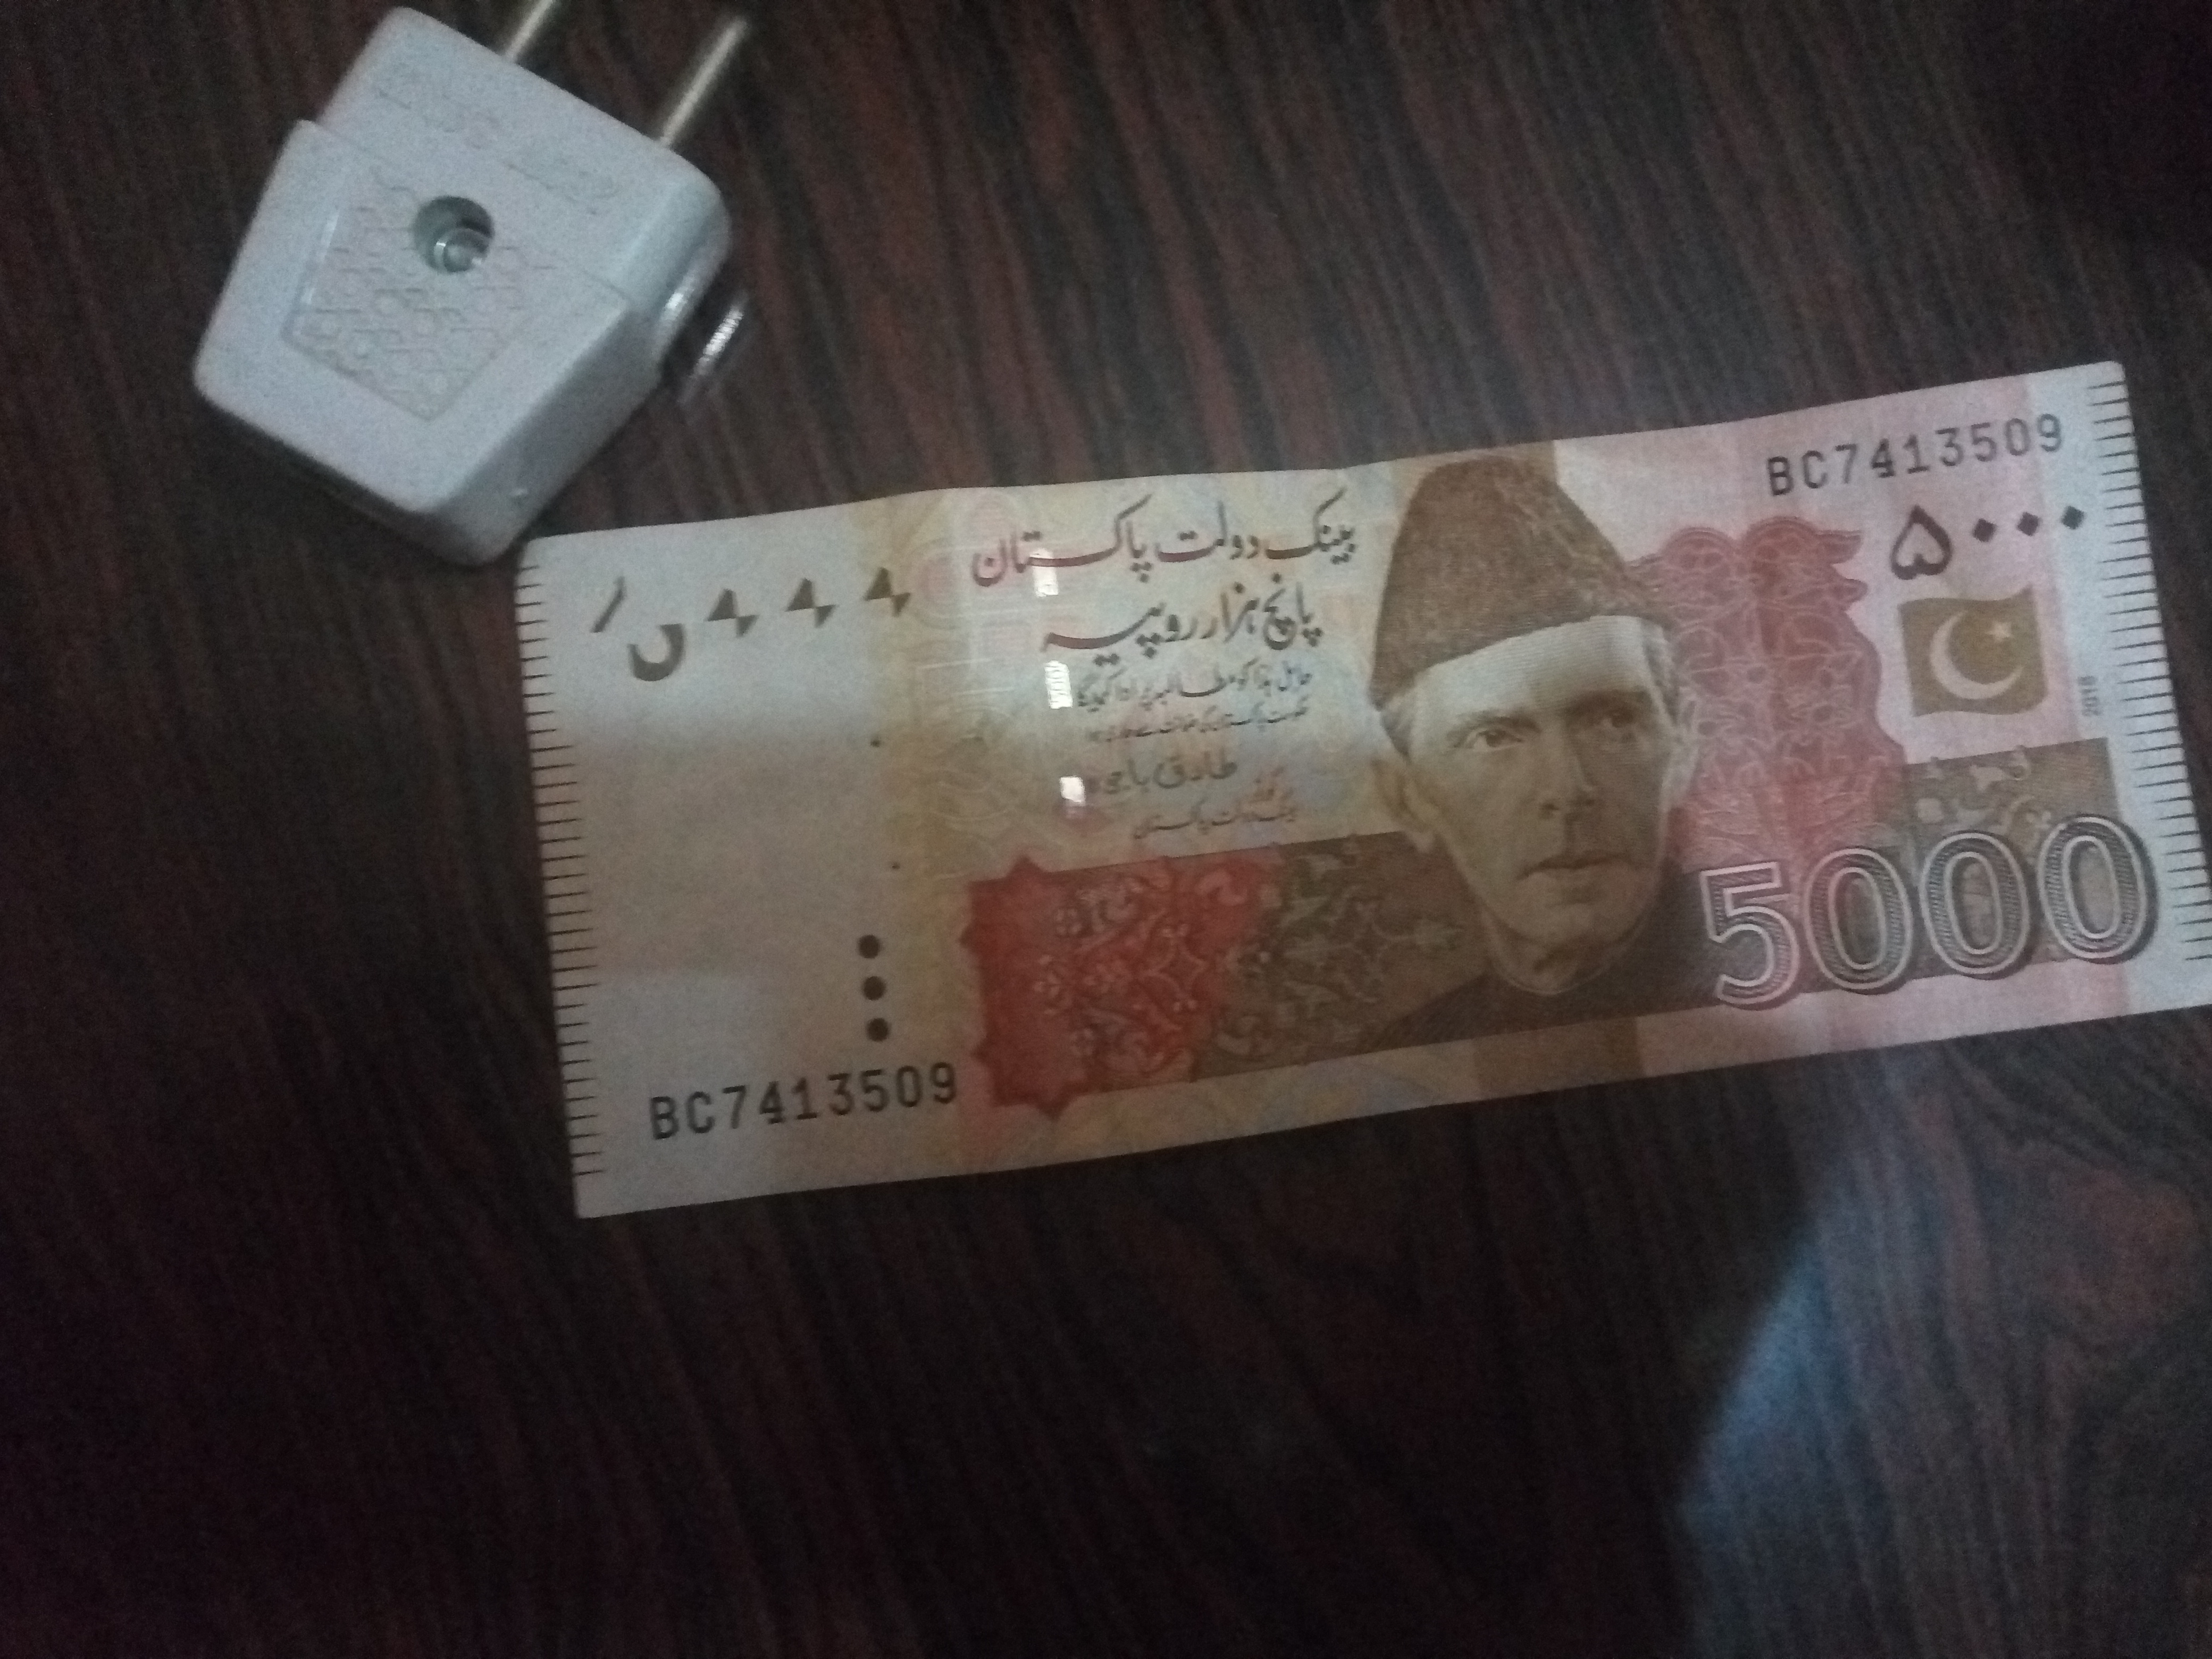5000 rupee: (477, 403, 2196, 1249), (714, 871, 986, 1070)
